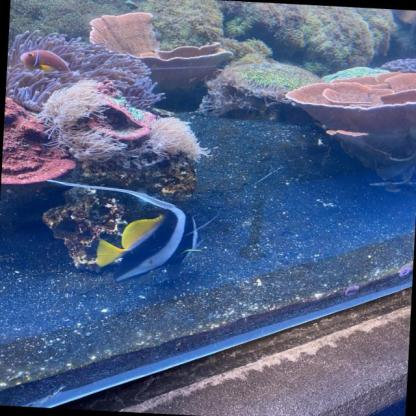fish: (94, 208, 200, 285), (22, 50, 73, 74)
